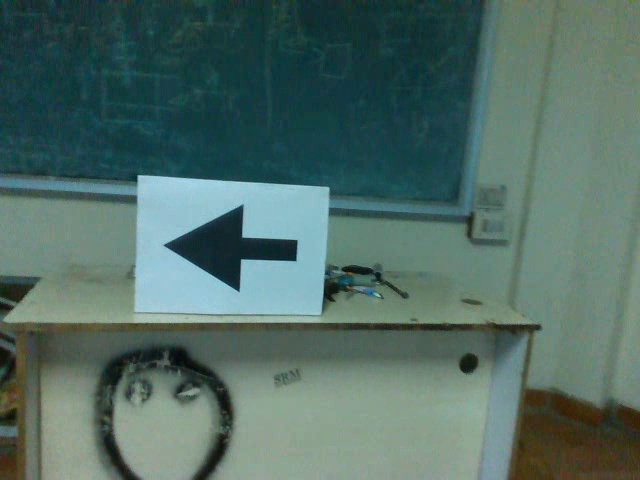Left: (160, 201, 305, 298)
